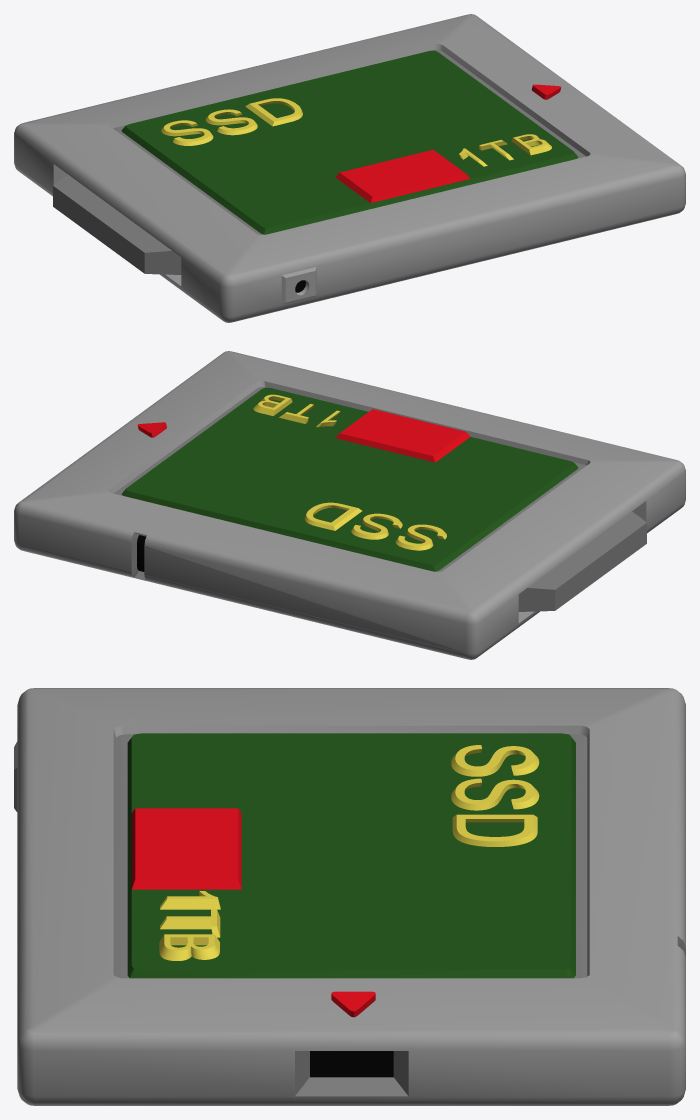
File: ssd.glb
The picture shows the model from 3 angles, top to bottom: view 1: azimuth 30°, elevation 25°; view 2: azimuth 150°, elevation 25°; view 3: azimuth 270°, elevation 25°; orthographic projection. The views are drawn at different scales.
Visible parts, largest first — view 1: SSD, SSD Text, SSD Text - 1TB; view 2: SSD, SSD Text, SSD Text - 1TB; view 3: SSD, SSD Text, SSD Text - 1TB, SSD Arrow.
Part boxes in pixels (box(x1,y1,x2,y2)): SSD: box(14, 14, 685, 322); SSD Text: box(161, 98, 302, 145); SSD Text - 1TB: box(459, 134, 551, 166); SSD: box(14, 351, 685, 659); SSD Text: box(304, 502, 446, 550); SSD Text - 1TB: box(253, 394, 340, 427); SSD: box(14, 688, 685, 1105); SSD Text: box(451, 745, 539, 846); SSD Text - 1TB: box(159, 891, 220, 960); SSD Arrow: box(331, 991, 375, 1017).
Bounding box in the file's own units: 0.1732 × 0.0233 × 0.1339.
